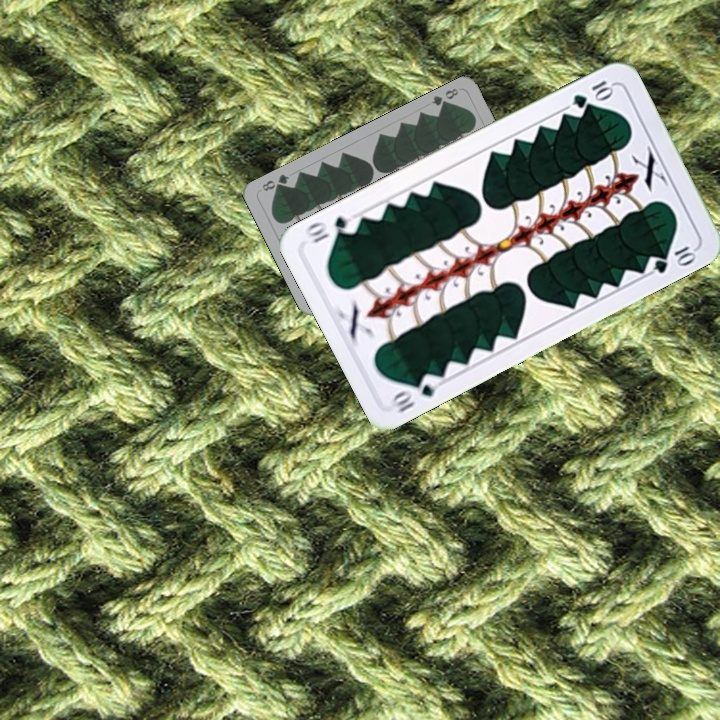G10: (388, 369, 445, 416), (568, 76, 618, 111)
G8: (427, 84, 461, 112)
